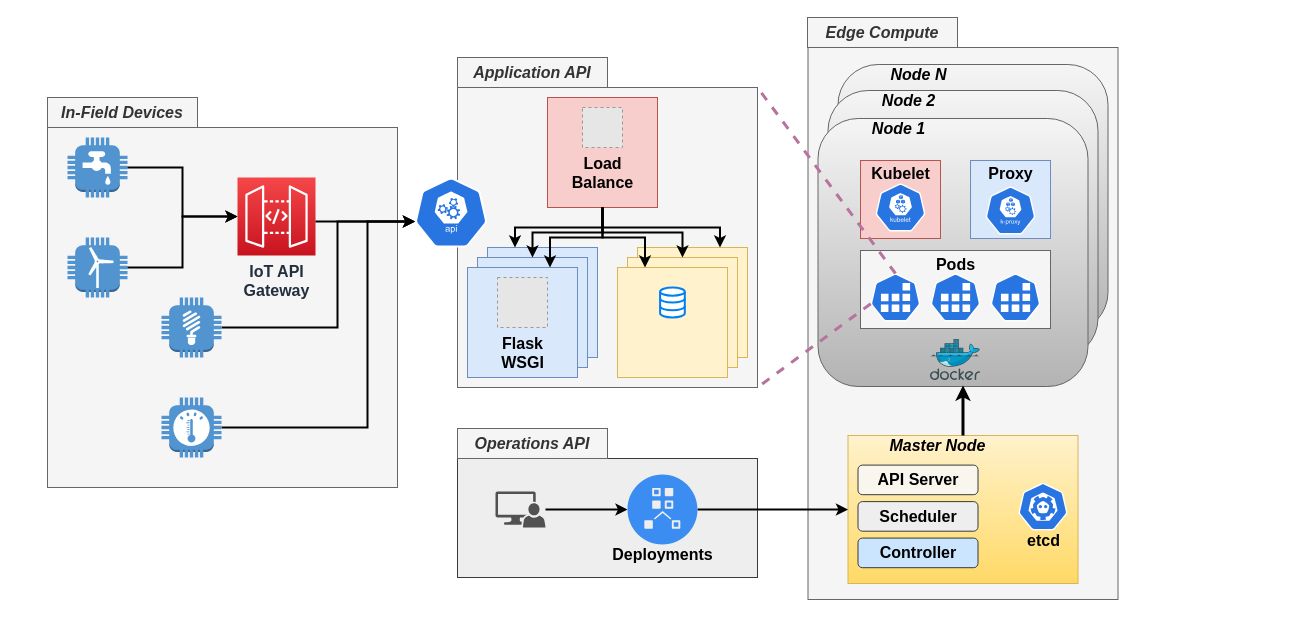
This 1312x617 diagram has some shape labels left out. Grey dashed boxes stand in for pictures. The shapes that lost their labels are listed below. From the top down, each one's centre as x and y in pixels, then its label:
At (x=97, y=167): "S1".
At (x=97, y=267): "S2".
At (x=672, y=302): "MongoDB".
At (x=191, y=327): "S3".
At (x=191, y=427): "S4".
At (x=520, y=509): "Admin".
